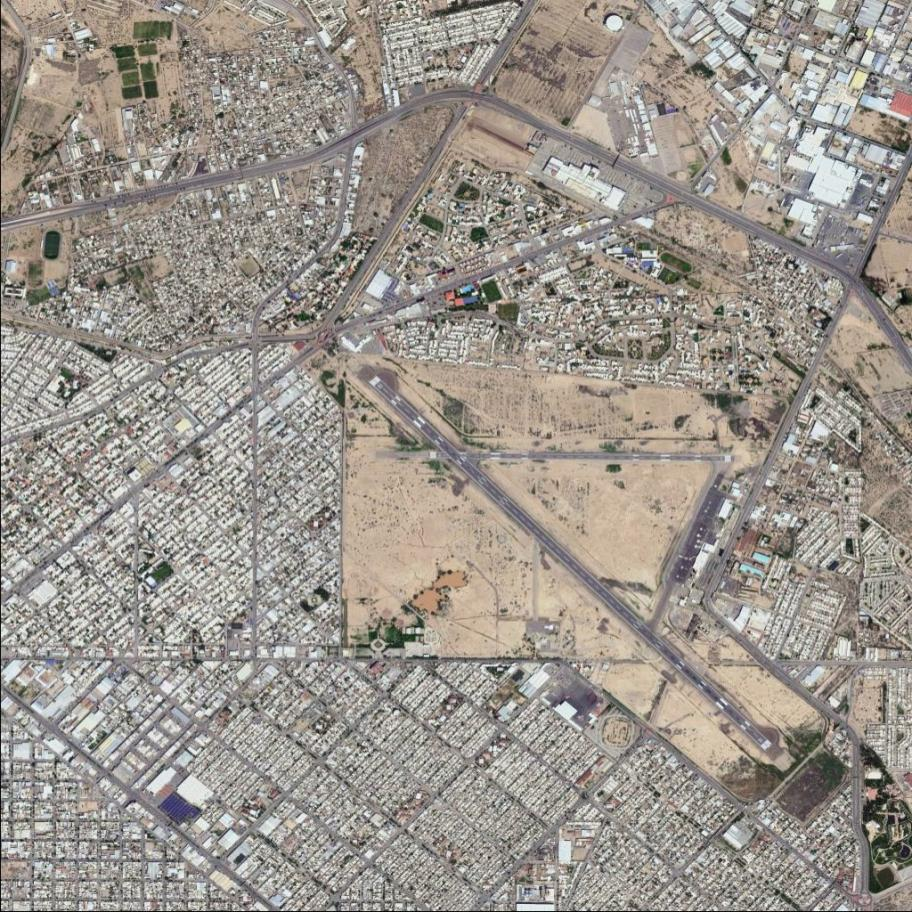storage-tank: (604, 12, 624, 31)
